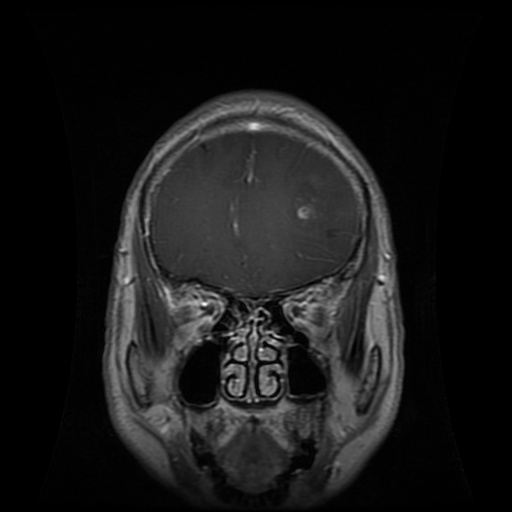glioma: (293, 181, 324, 224)
